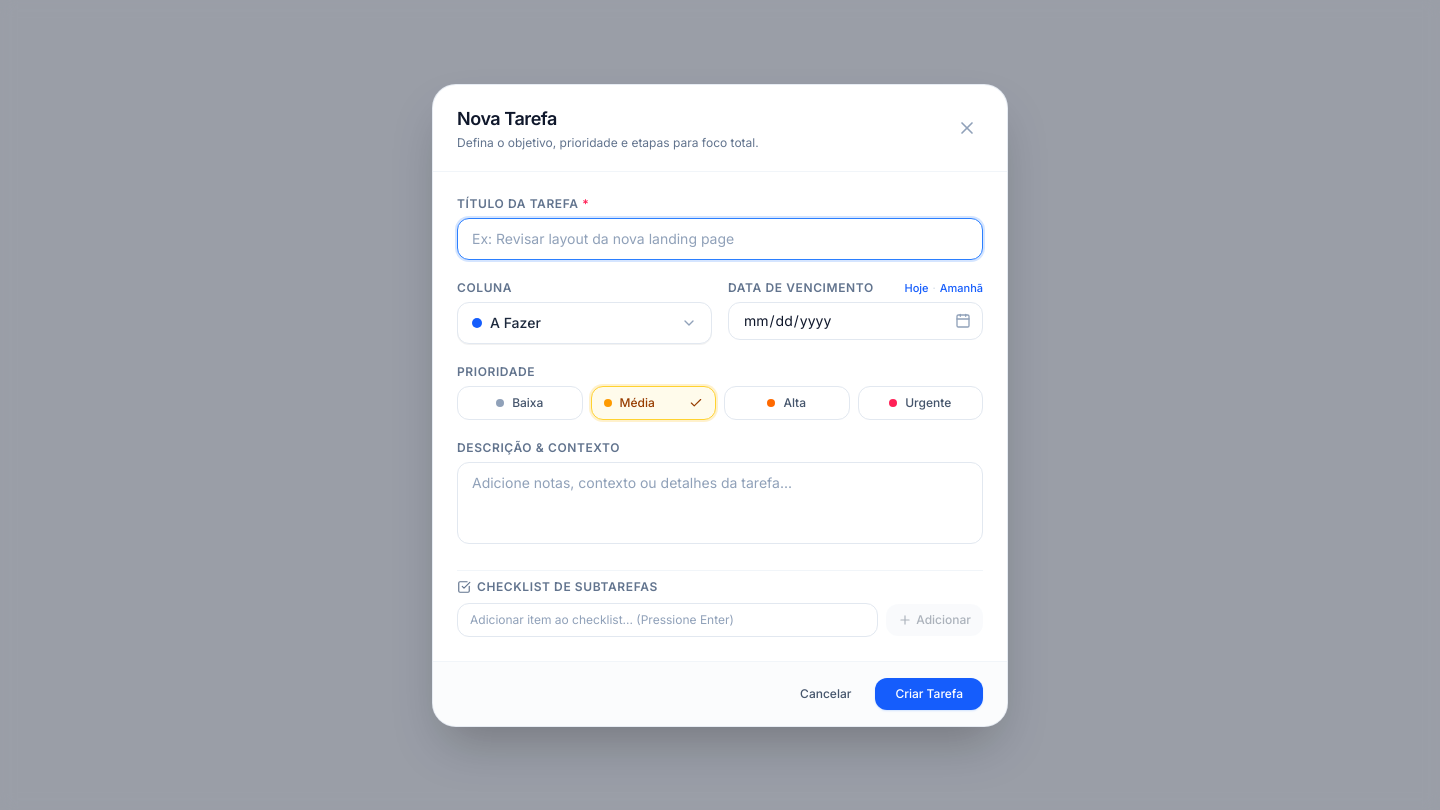
Test: TaskModal › abre o dropdown customizado de colunas, lista opções com bolinhas de cores e seleciona uma coluna
Note: Clica para abrir o dropdown flutuante
Click the dropdown named "Selecionar coluna" at (584, 322), box top-left (457, 302), bottom-right (712, 344)
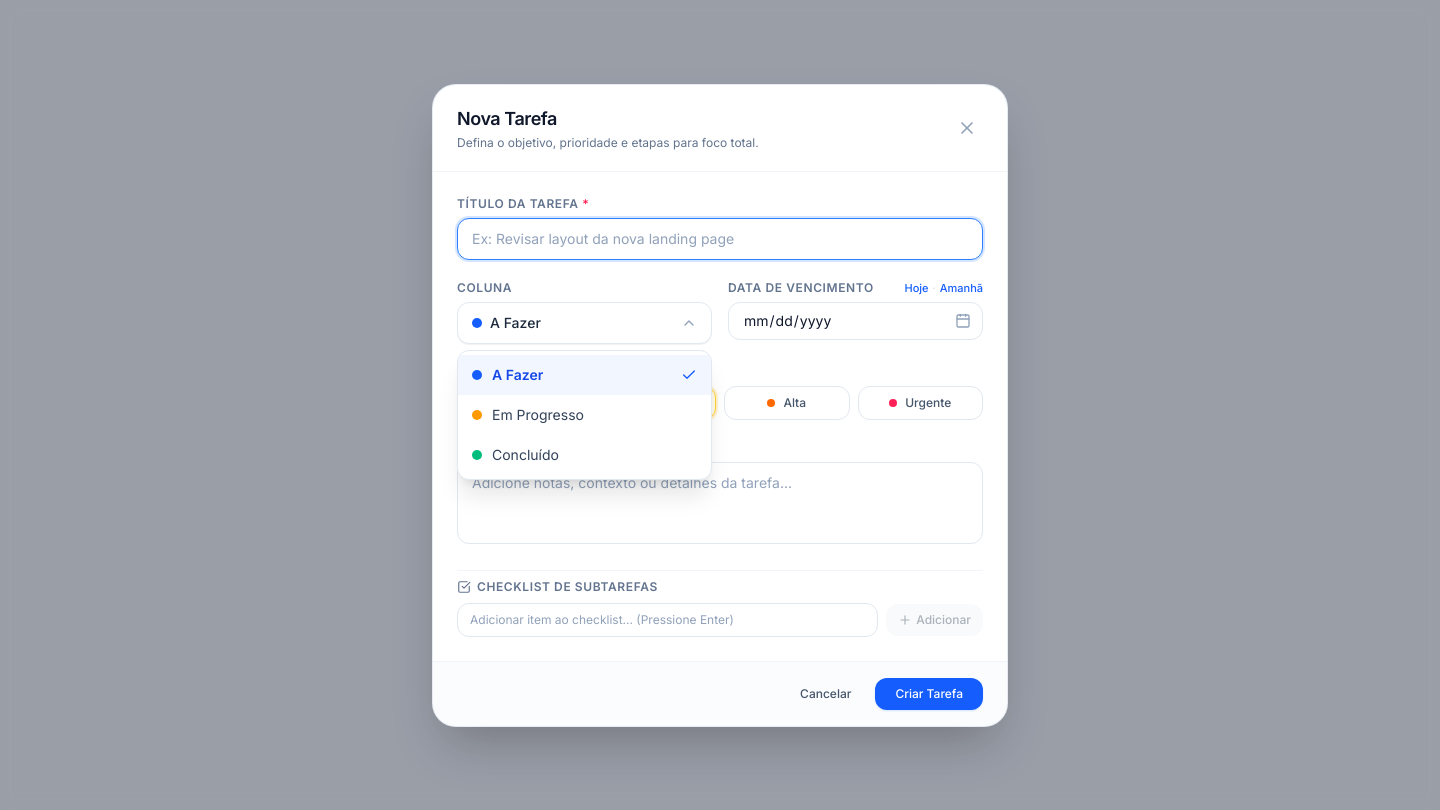
Expected: the list named "Opções de colunas" is shown, top-left (457, 350), bottom-right (712, 480)
Expected: the number of options is 3
Expected: the option "A Fazer" is shown, top-left (458, 354), bottom-right (711, 394)
Note: Seleciona 'Em Progresso'
Click the option "Em Progresso" at (584, 414), box top-left (458, 394), bottom-right (711, 434)
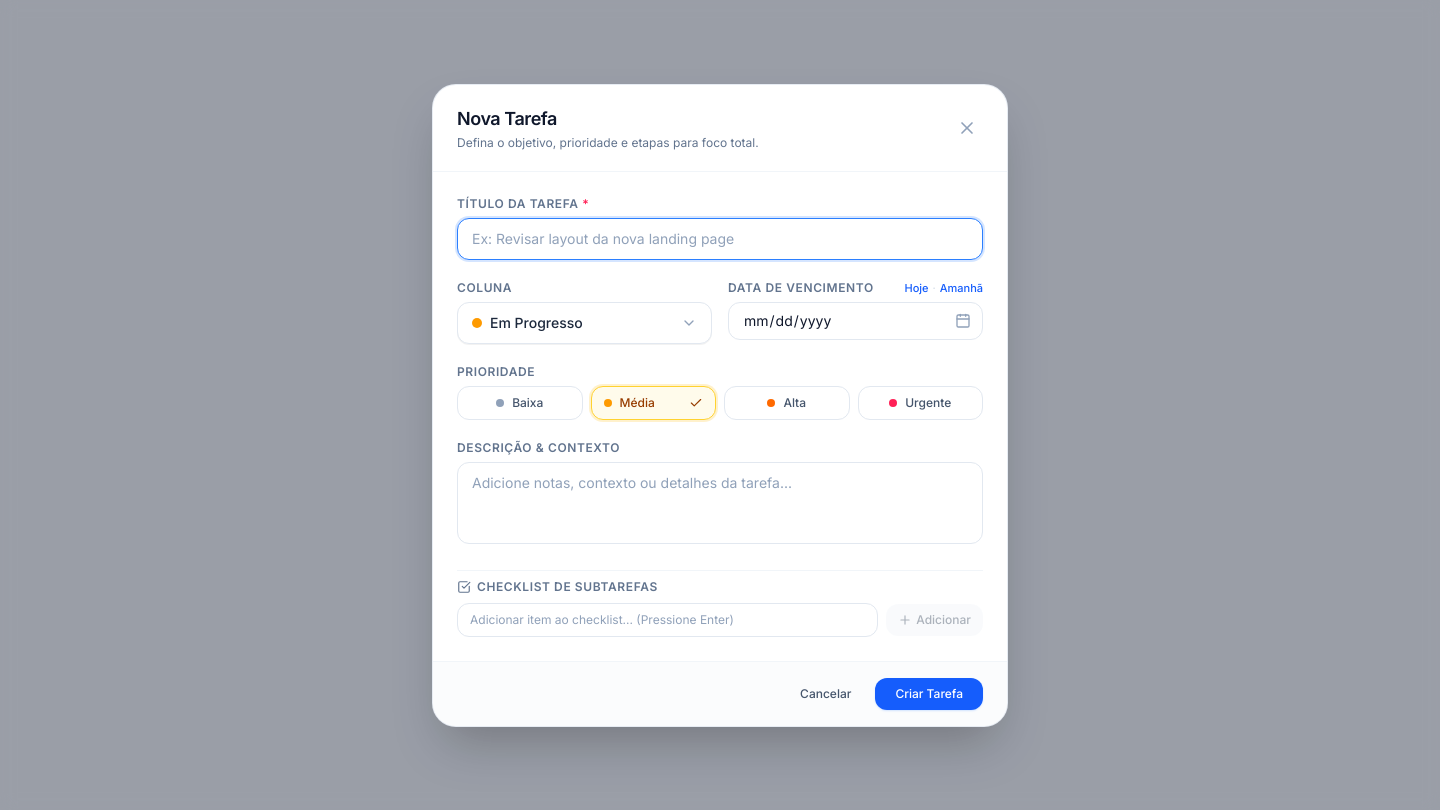
Expected: the list is gone
Expected: the dropdown named "Selecionar coluna" reads "Em Progresso", top-left (457, 302), bottom-right (712, 344)
